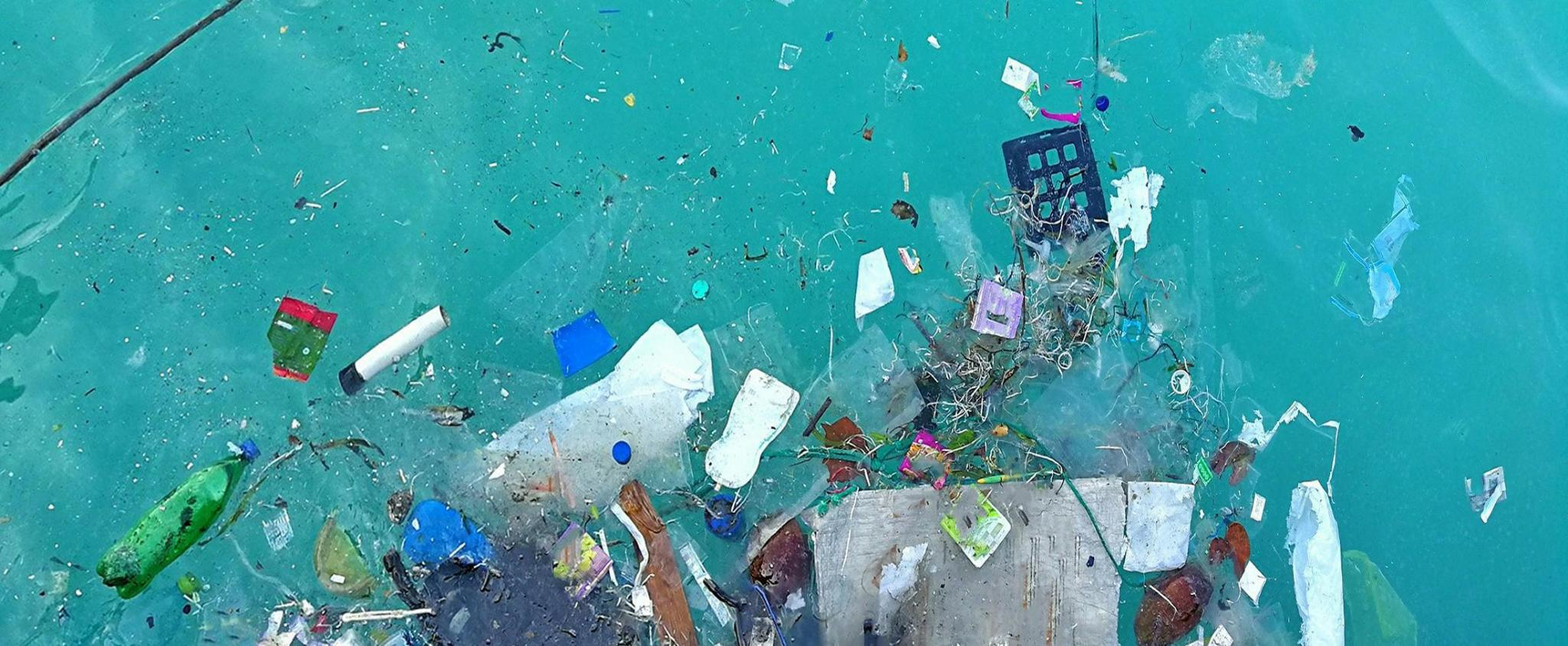Plastic Pollution: (257, 96, 1374, 636)
